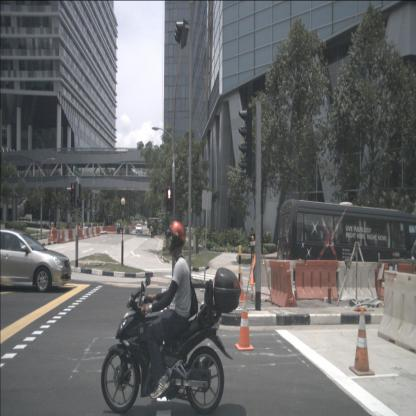barrier: (378, 269, 416, 353), (249, 258, 297, 303), (375, 261, 416, 301), (297, 259, 338, 299), (269, 261, 297, 308), (57, 228, 65, 243), (68, 228, 73, 242), (78, 228, 84, 239), (64, 229, 69, 242), (72, 228, 77, 241), (107, 226, 115, 234), (83, 228, 88, 238), (103, 226, 109, 234), (88, 228, 93, 237), (97, 226, 103, 233), (86, 228, 90, 238), (96, 227, 100, 236), (93, 227, 97, 236), (92, 228, 95, 236)
cone: (349, 308, 375, 375), (336, 262, 378, 300), (235, 294, 253, 351), (239, 271, 246, 302), (212, 278, 218, 308)
